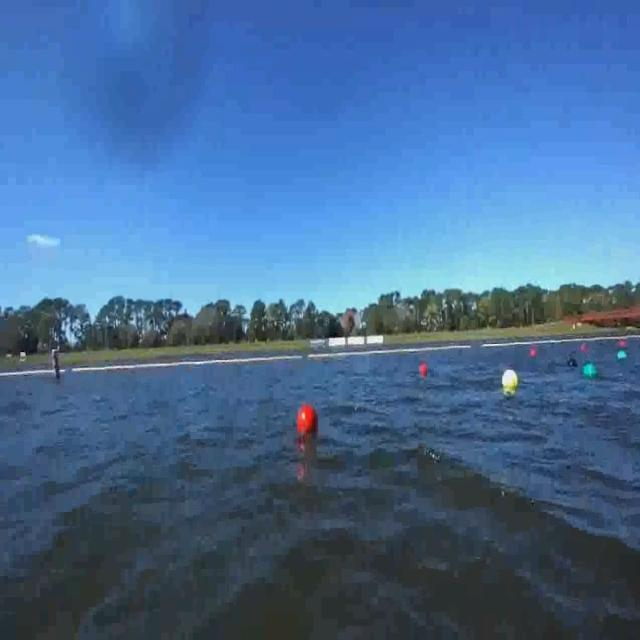black-buoy: (570, 358, 578, 367)
green-buoy: (581, 363, 595, 378), (618, 351, 628, 362)
red-buoy: (296, 406, 315, 435), (420, 361, 429, 377), (580, 342, 589, 354), (528, 348, 538, 356), (619, 341, 626, 348)
yellow-buoy: (501, 369, 518, 392)
